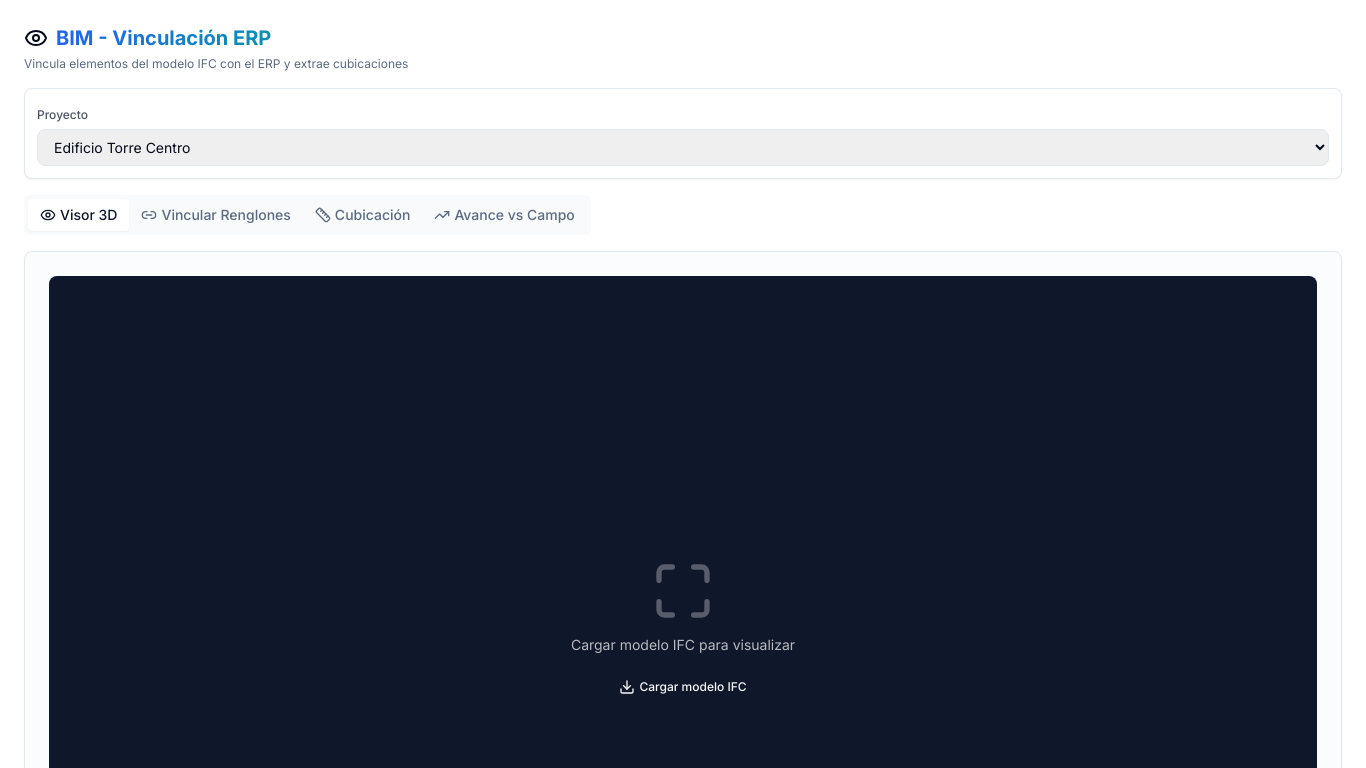
Scenario: VisorBIM Screen › linking element to budget line item works
Expected: the tab "Visor 3D" is shown, [28,199,130,231]
Click the tab "Vincular Renglones". click: (216, 215)
box: [130,199,303,231]
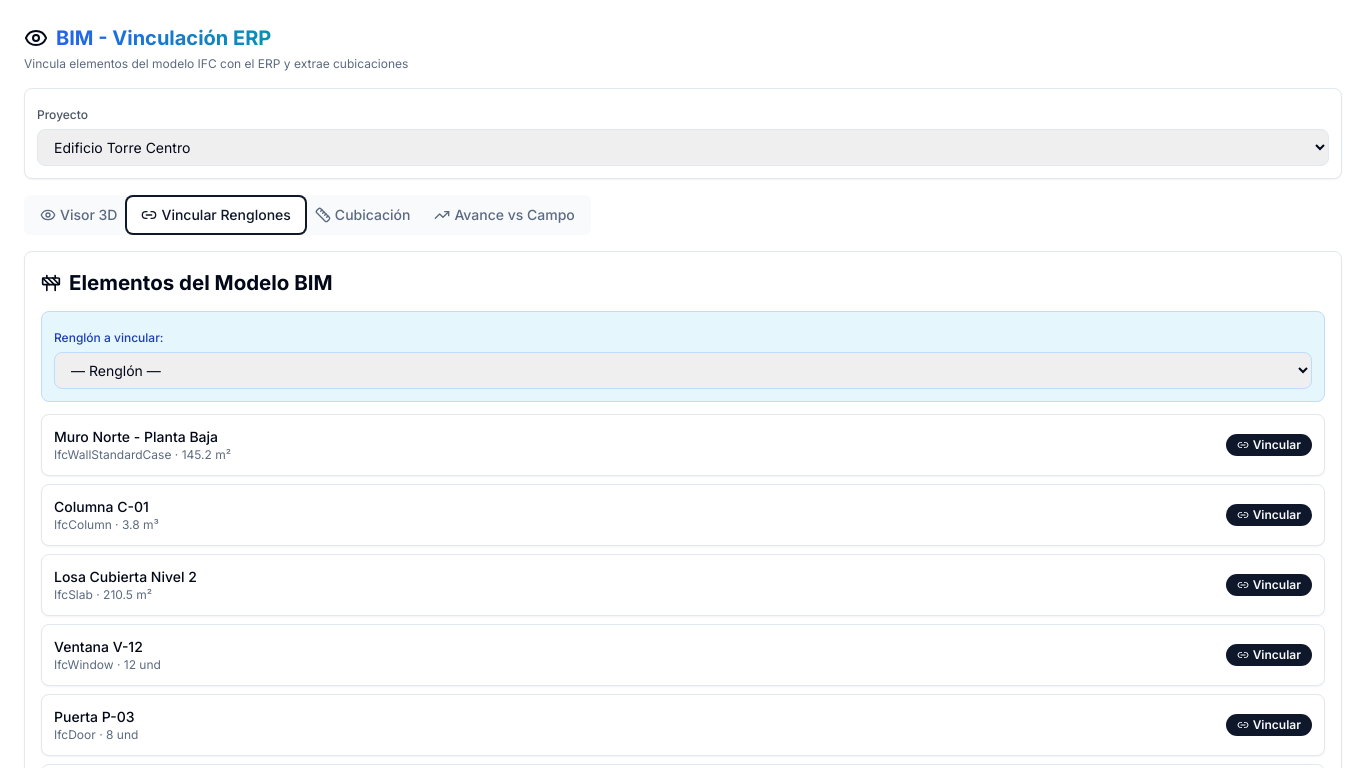
Select "Muros" in the dropdown below "Renglón a vincular:". click: (683, 370)
box: [54,352,1312,389]
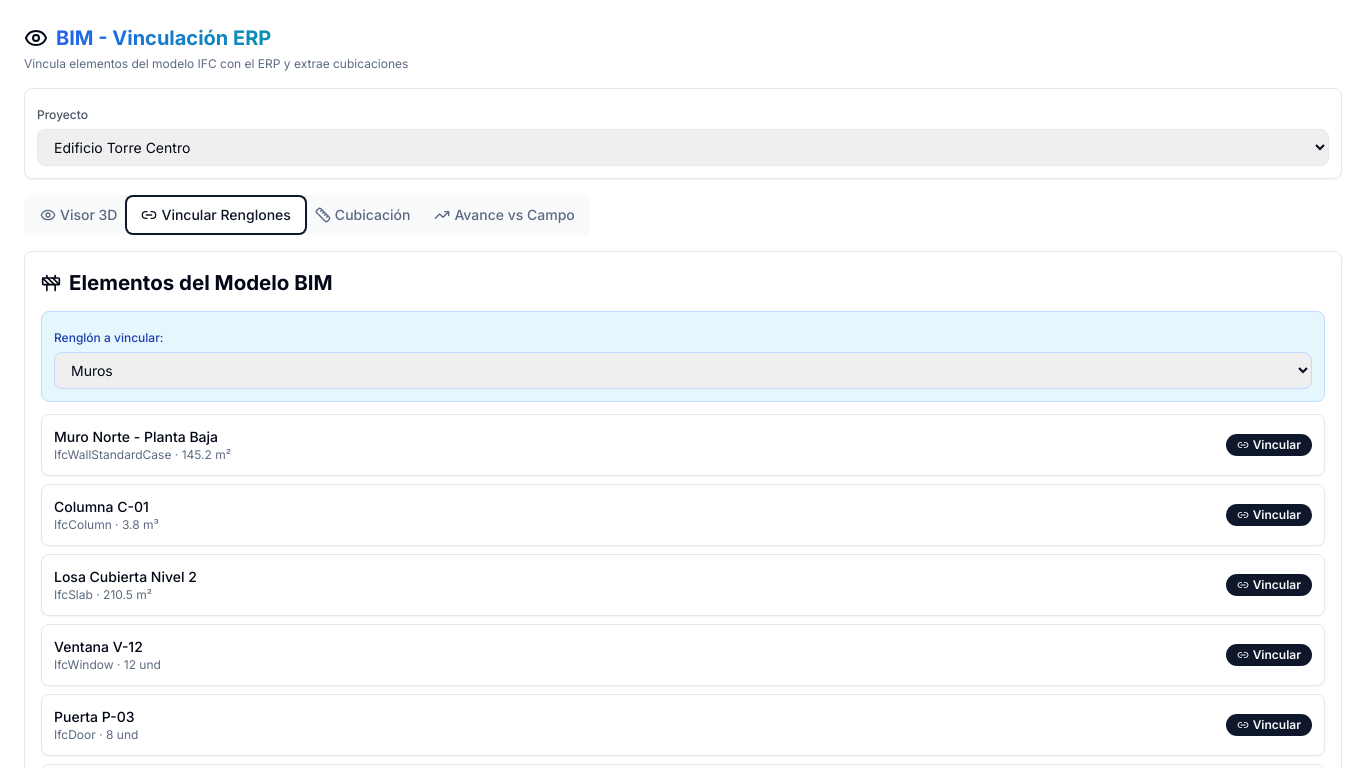
Click the text "Vincular" in the row of "Muro Norte - Planta Baja". click: (1269, 445)
box: [1226,434,1312,456]
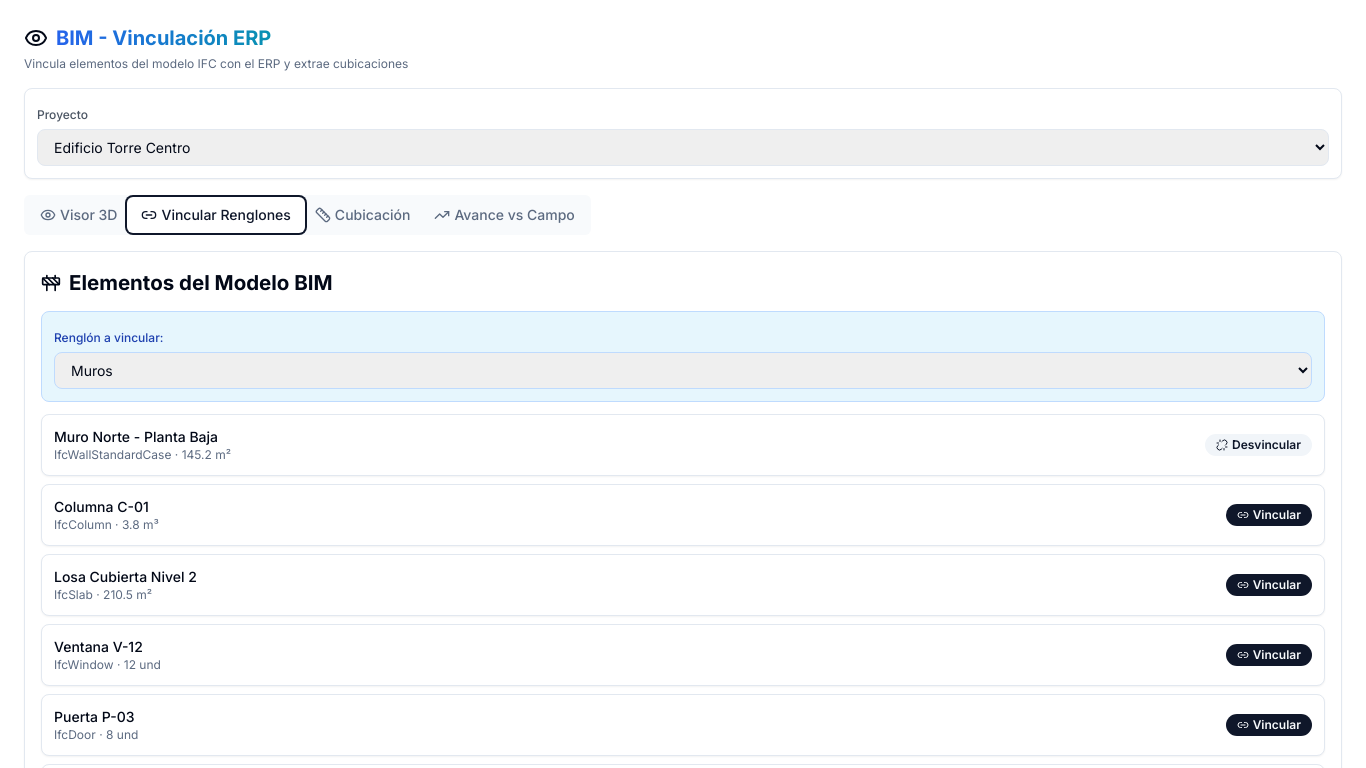
Expected: the text "Desvincular" is shown, [1205,434,1312,456]
